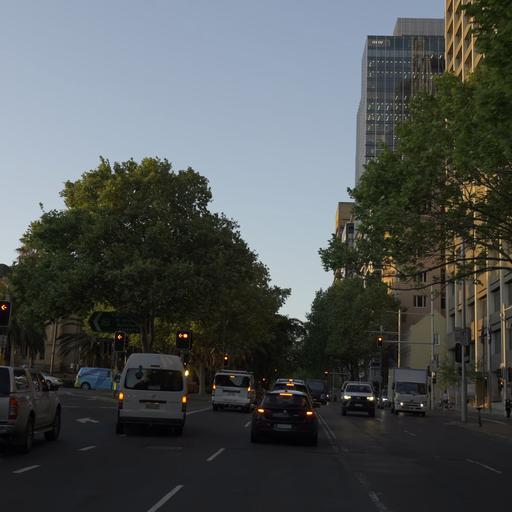Street light: (175, 329, 192, 350), (113, 330, 126, 351), (376, 336, 382, 347), (223, 353, 228, 366)
